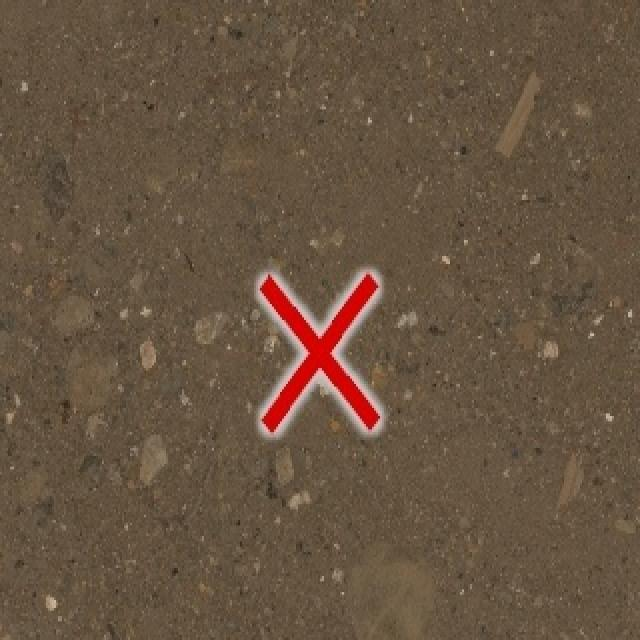x_marker: (259, 273, 379, 431)
